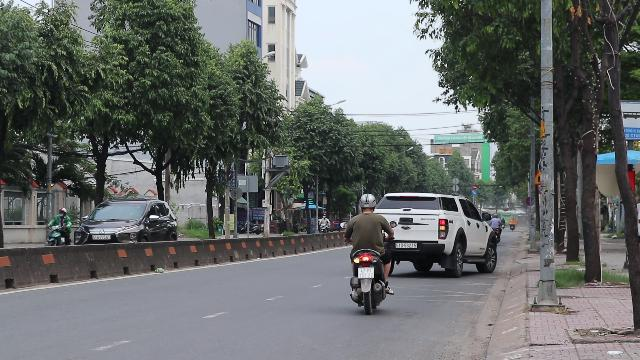helmet: (358, 192, 376, 212)
licenseplate: (358, 266, 374, 278)
motorcyclist: (344, 192, 396, 312)
